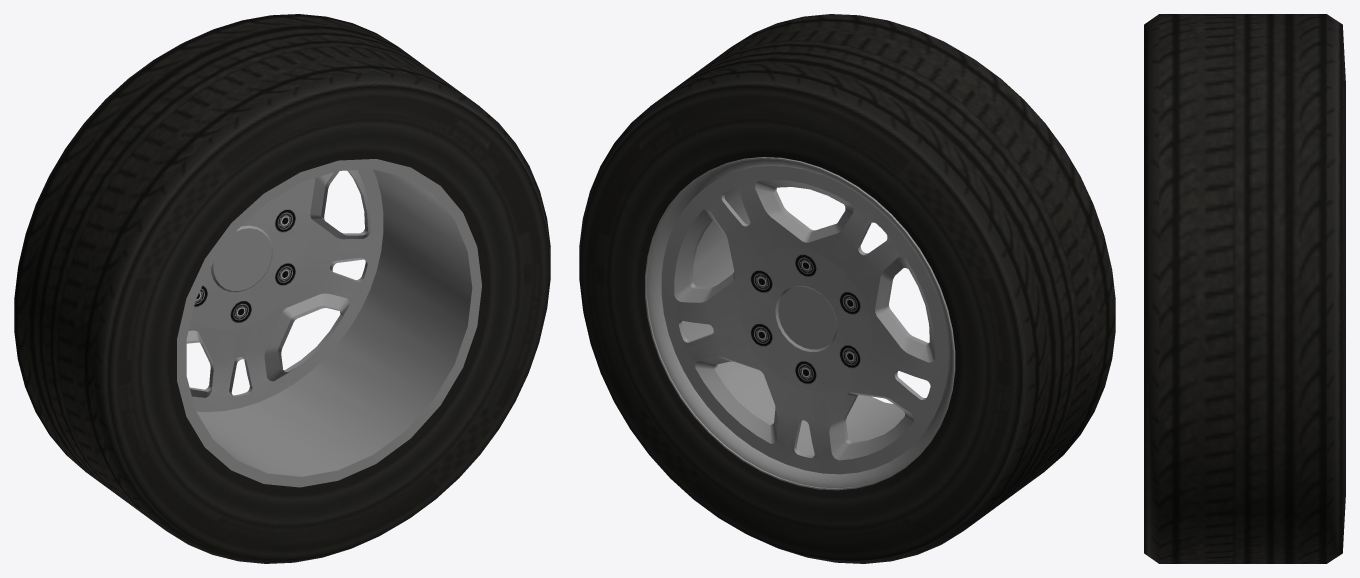
3 views of the same model, side by side, from view 1: azimuth 30°, elevation 25°; view 2: azimuth 150°, elevation 25°; view 3: azimuth 270°, elevation 25° (orthographic). The views are drawn at different scales.
Visible parts, largest first — view 1: U803_1A_901C_L_U803_1A_901C_L_2_DM, U803_1A_901C_L_U803_1A_901C_L_1_DaS, U803_1A_901C_L_3_D_U803_1A_901C_L; view 2: U803_1A_901C_L_U803_1A_901C_L_2_DM, U803_1A_901C_L_U803_1A_901C_L_1_DaS, U803_1A_901C_L_3_D_U803_1A_901C_L; view 3: U803_1A_901C_L_U803_1A_901C_L_2_DM.
Part boxes in pixels (x1,y1,x2,y2): U803_1A_901C_L_U803_1A_901C_L_2_DM: (14, 14, 550, 563); U803_1A_901C_L_U803_1A_901C_L_1_DaS: (177, 159, 481, 487); U803_1A_901C_L_3_D_U803_1A_901C_L: (194, 209, 295, 322); U803_1A_901C_L_U803_1A_901C_L_2_DM: (579, 14, 1115, 563); U803_1A_901C_L_U803_1A_901C_L_1_DaS: (645, 157, 955, 490); U803_1A_901C_L_3_D_U803_1A_901C_L: (750, 254, 860, 384); U803_1A_901C_L_U803_1A_901C_L_2_DM: (1144, 14, 1345, 563).
Size of the model in its own units: 70.63 by 70.77 by 25.94.
